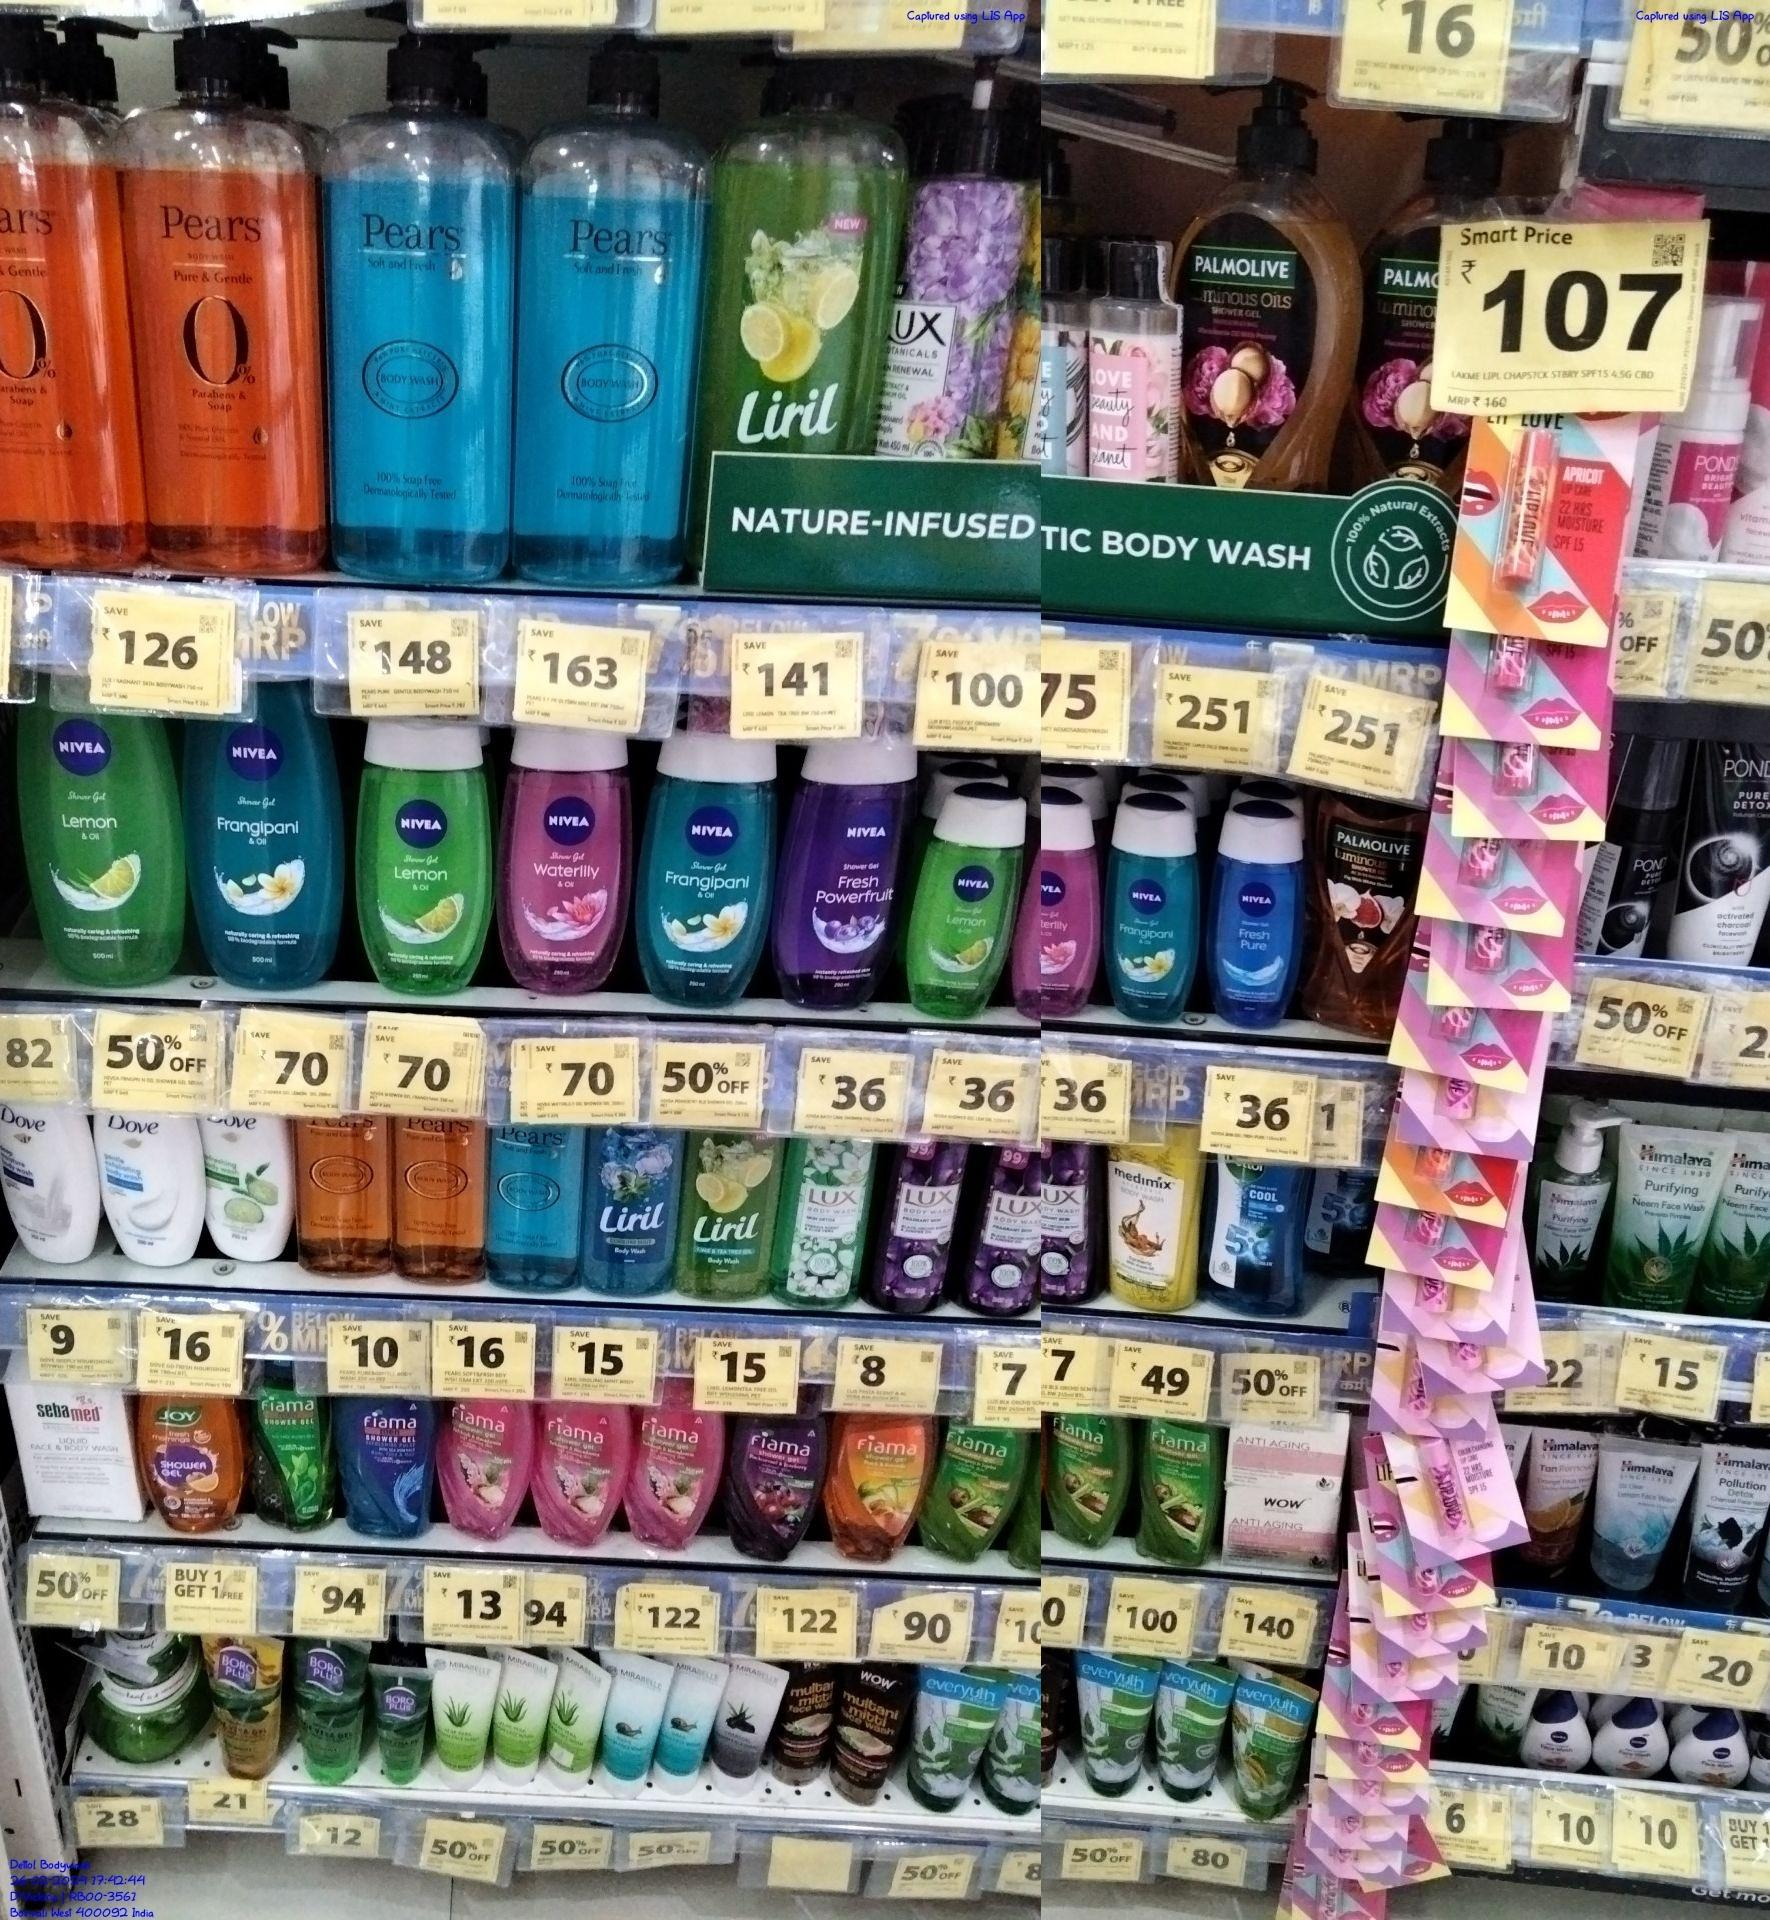Nivea_Shower_Gel_Frangipani_and_Oil_250ML: (192, 686, 336, 978), (647, 734, 775, 998)
Nivea_Shower_Gel_Fresh_Powerfruit_250ML: (788, 731, 917, 1002)
Nivea_Shower_Gel_Lemon_and_Oil_250ML: (17, 699, 182, 977), (360, 721, 500, 1003)
Nivea_Shower_Gel_Waterlily_and_Oil_250ML: (509, 721, 631, 985)
